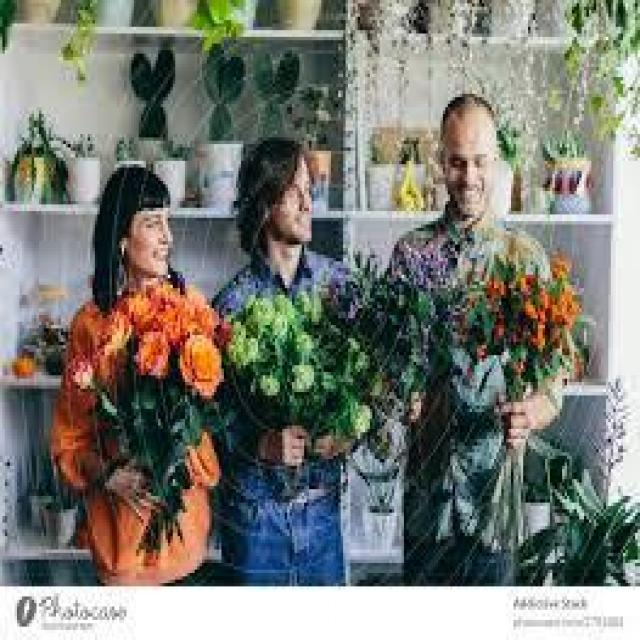organic waste: (389, 250, 577, 400), (224, 294, 401, 448), (88, 288, 216, 412)
